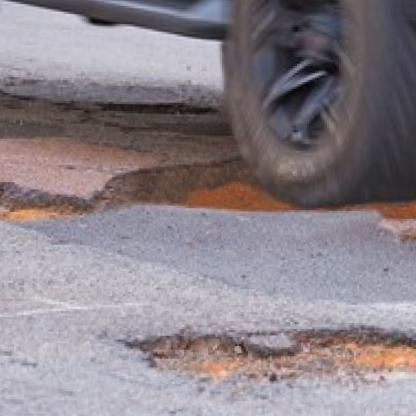pothole: (115, 321, 416, 385), (93, 152, 242, 214), (0, 162, 90, 220)
